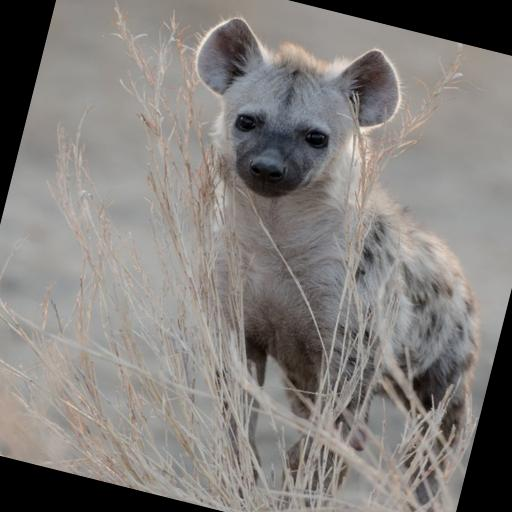hyenas: (134, 3, 512, 512)
